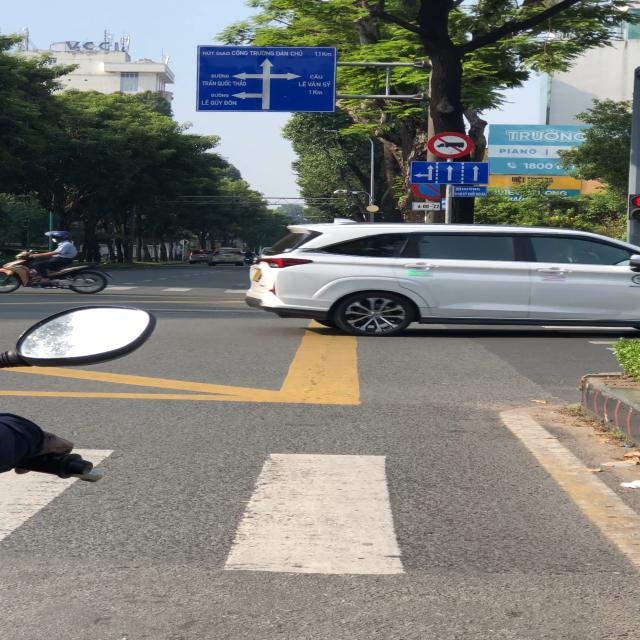Bien bao cam xe so-mi ro-mooc: (424, 129, 477, 161)
